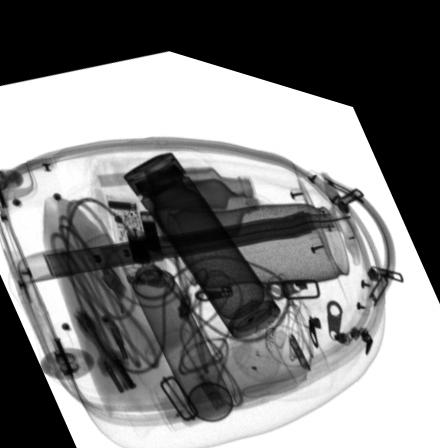Sprayer: (118, 237, 233, 410)
